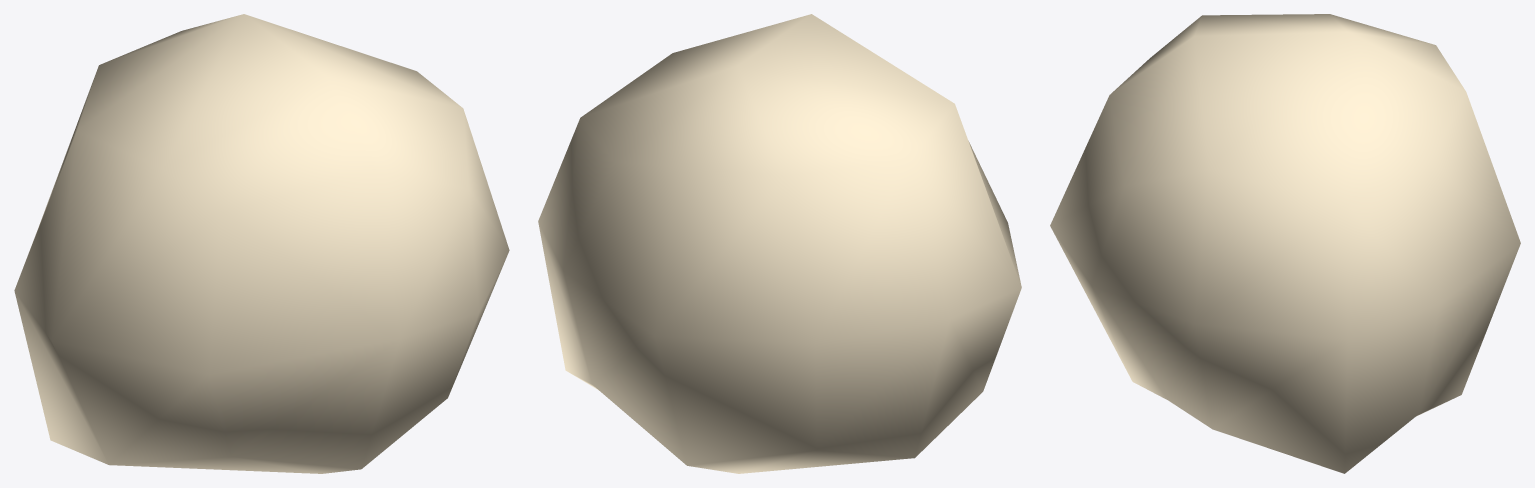
Rendered from Player_Particle_Dust.fbx.
3 renders of one model, left to right at view 1: azimuth 30°, elevation 25°; view 2: azimuth 150°, elevation 25°; view 3: azimuth 270°, elevation 25°, orthographic. The views are drawn at different scales.
Parts seen in each view (by area): view 1: Player_Particle_Dust; view 2: Player_Particle_Dust; view 3: Player_Particle_Dust.
Part boxes in pixels (x1=…): Player_Particle_Dust: x1=14, y1=14, x2=509, y2=473; Player_Particle_Dust: x1=538, y1=14, x2=1021, y2=473; Player_Particle_Dust: x1=1050, y1=14, x2=1520, y2=473.
Bounding box in the file's own units: 20.24 × 18.45 × 18.82.
